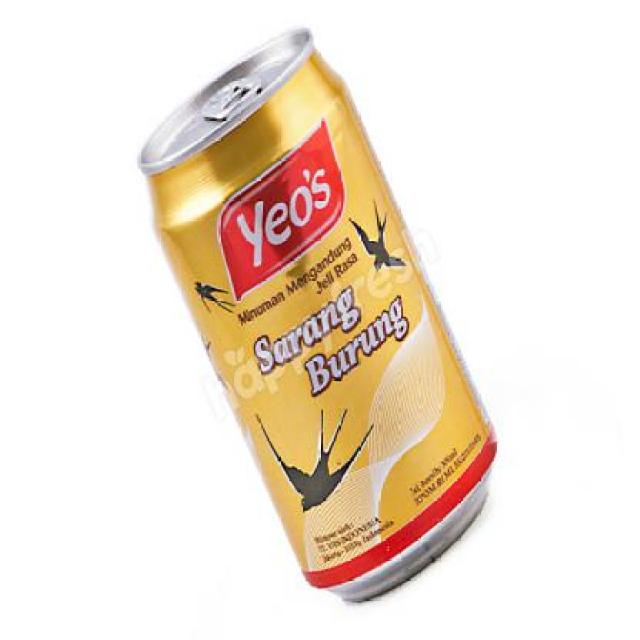Metal: (136, 26, 498, 605)
